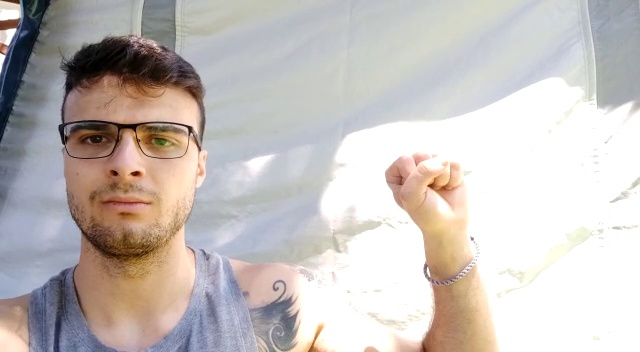Fist: (384, 150, 469, 228)
